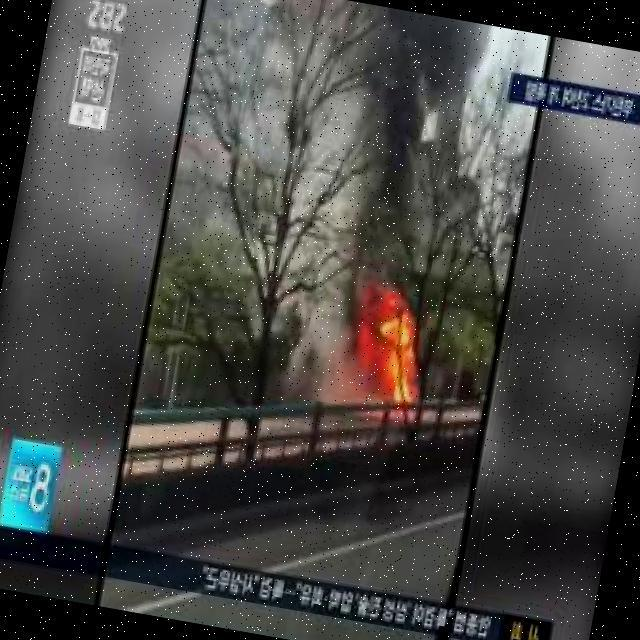Fire: (340, 292, 435, 404)
